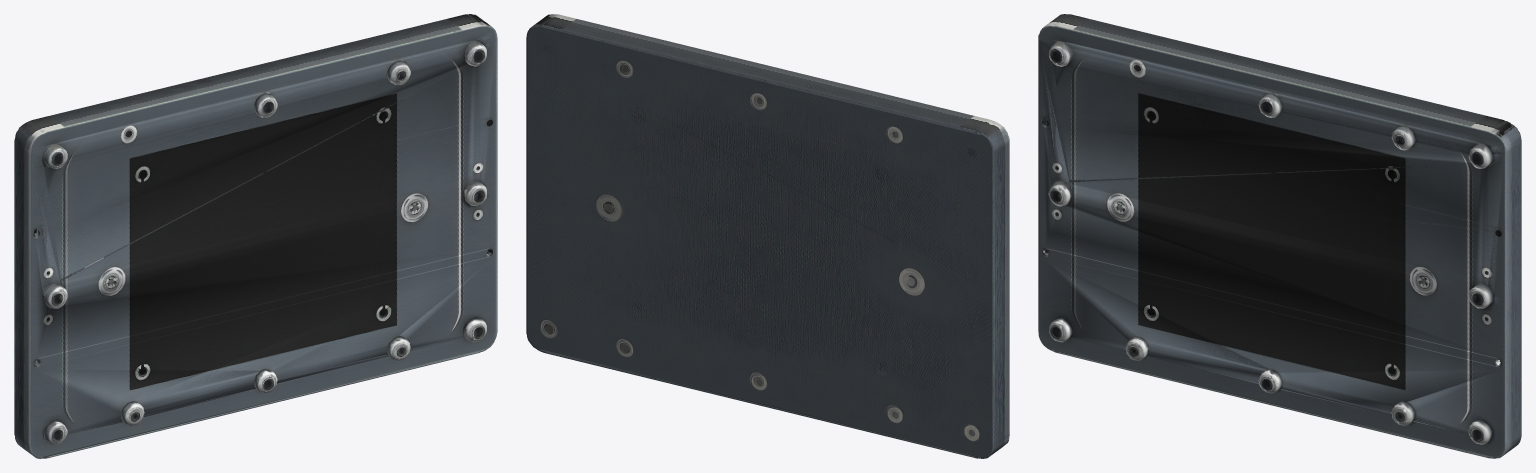
The model's file is floor_tile_a.glb.
3 renders of one model, left to right at view 1: azimuth 30°, elevation 25°; view 2: azimuth 150°, elevation 25°; view 3: azimuth 330°, elevation 25°, orthographic.
Bounding box in the file's own units: 1.9 × 1.27 × 0.1448.
1 material, 1 textured.
